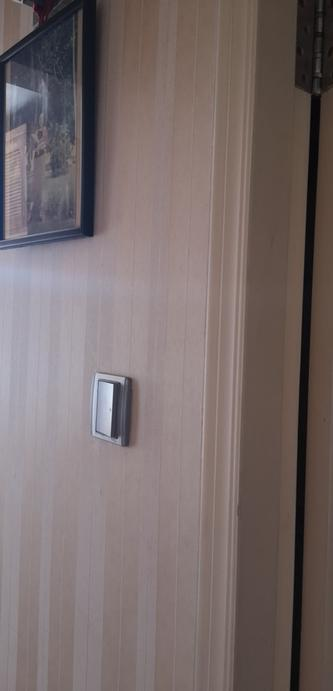switch: (90, 376, 126, 443)
